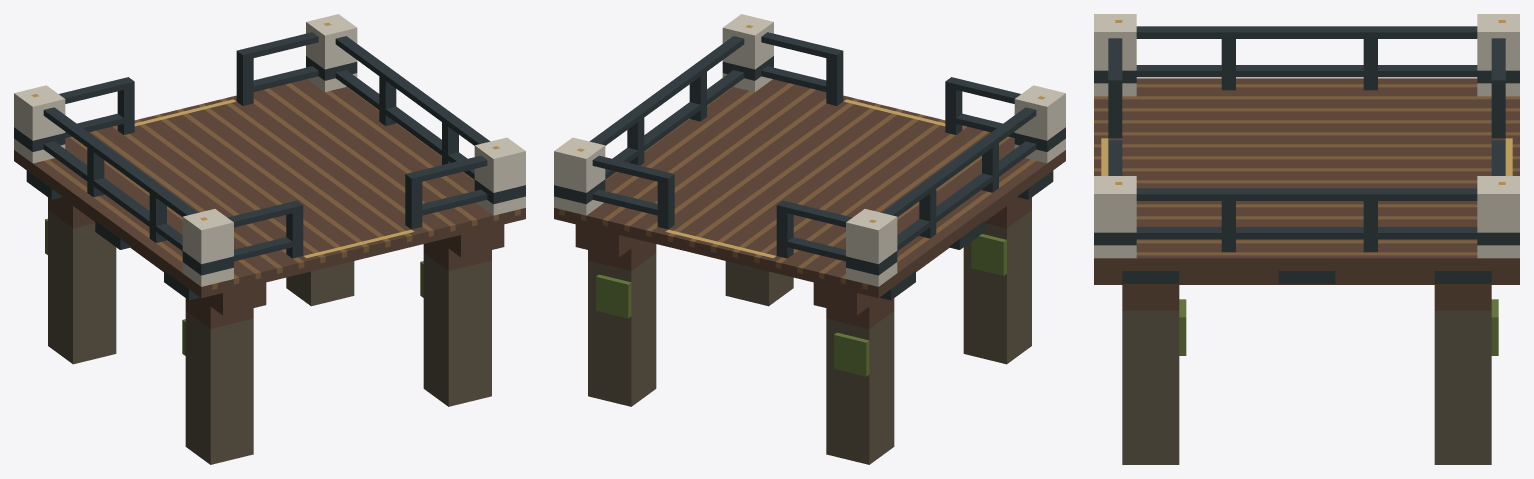
The picture shows the model from 3 angles, left to right: view 1: azimuth 30°, elevation 25°; view 2: azimuth 150°, elevation 25°; view 3: azimuth 270°, elevation 25°; orthographic projection. The views are drawn at different scales.
Visible parts, largest first — view 1: 滨水真实栈台桩基组件; view 2: 滨水真实栈台桩基组件; view 3: 滨水真实栈台桩基组件.
Part boxes in pixels (left/top/right/bottom): 滨水真实栈台桩基组件: left=14, top=14, right=525, bottom=464; 滨水真实栈台桩基组件: left=554, top=14, right=1065, bottom=464; 滨水真实栈台桩基组件: left=1094, top=14, right=1519, bottom=464.
Bounding box in the file's own units: 6 × 4.4 × 6.
Materials: 8 (8 with a texture image).
